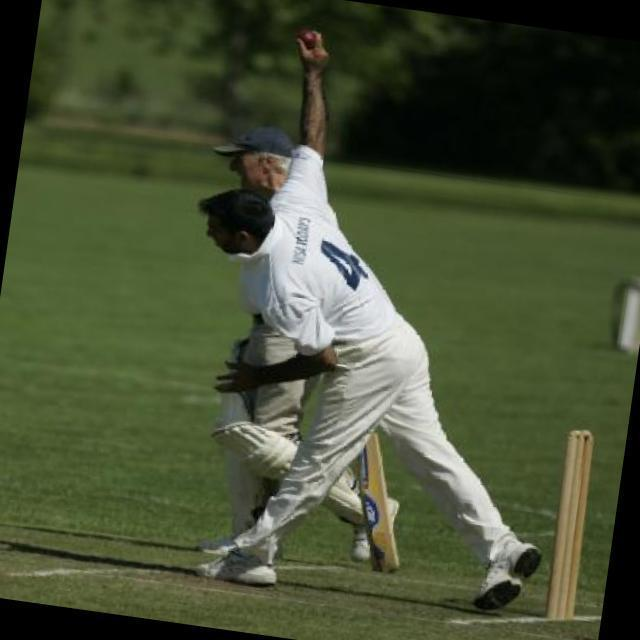-: (278, 0, 339, 73)
